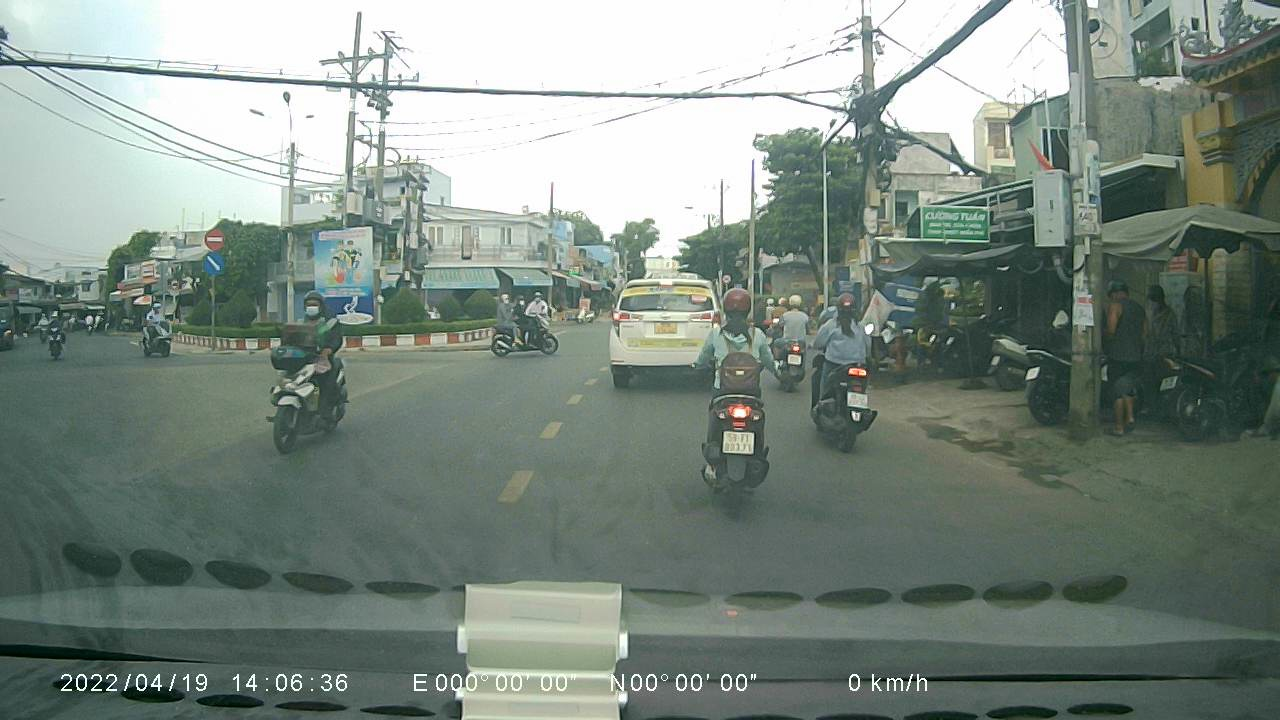Cam di nguoc chieu: (201, 225, 228, 249)
Huong di phai re phai: (200, 249, 226, 276)
